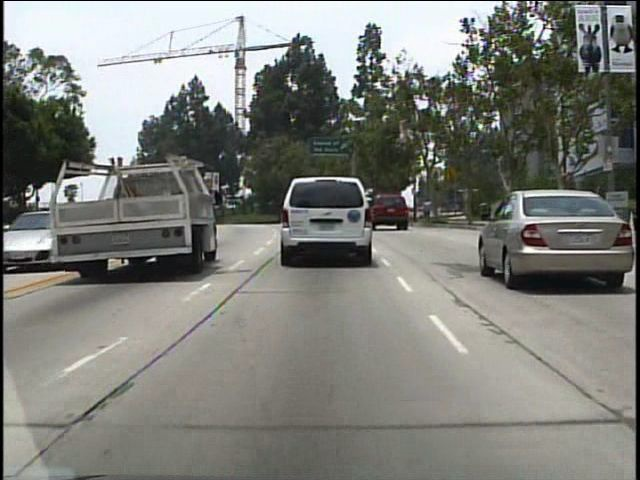person: (422, 194, 435, 226)
